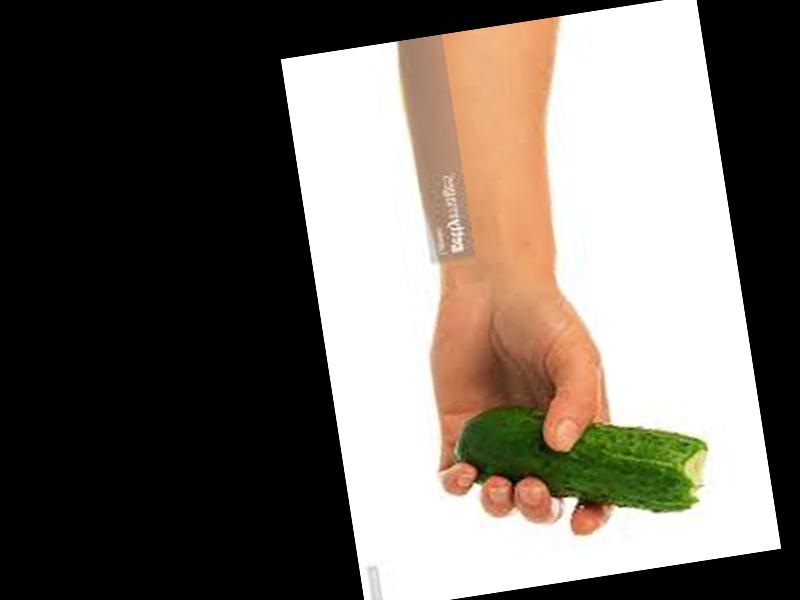Cucumber: (451, 378, 716, 542)
